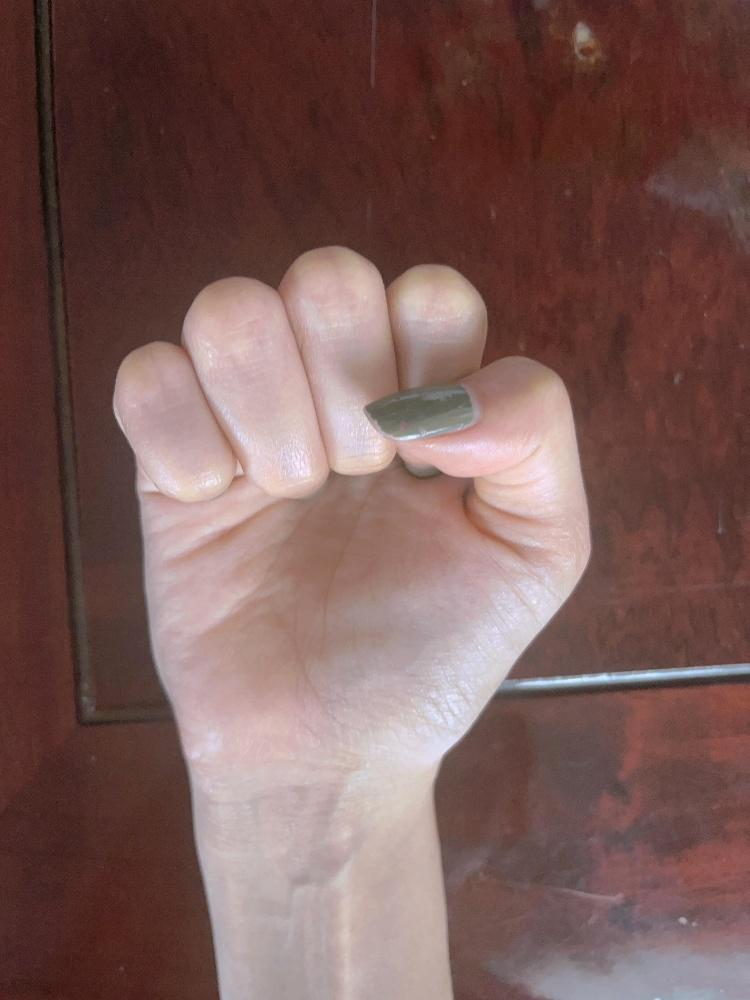s: (113, 239, 598, 750)
